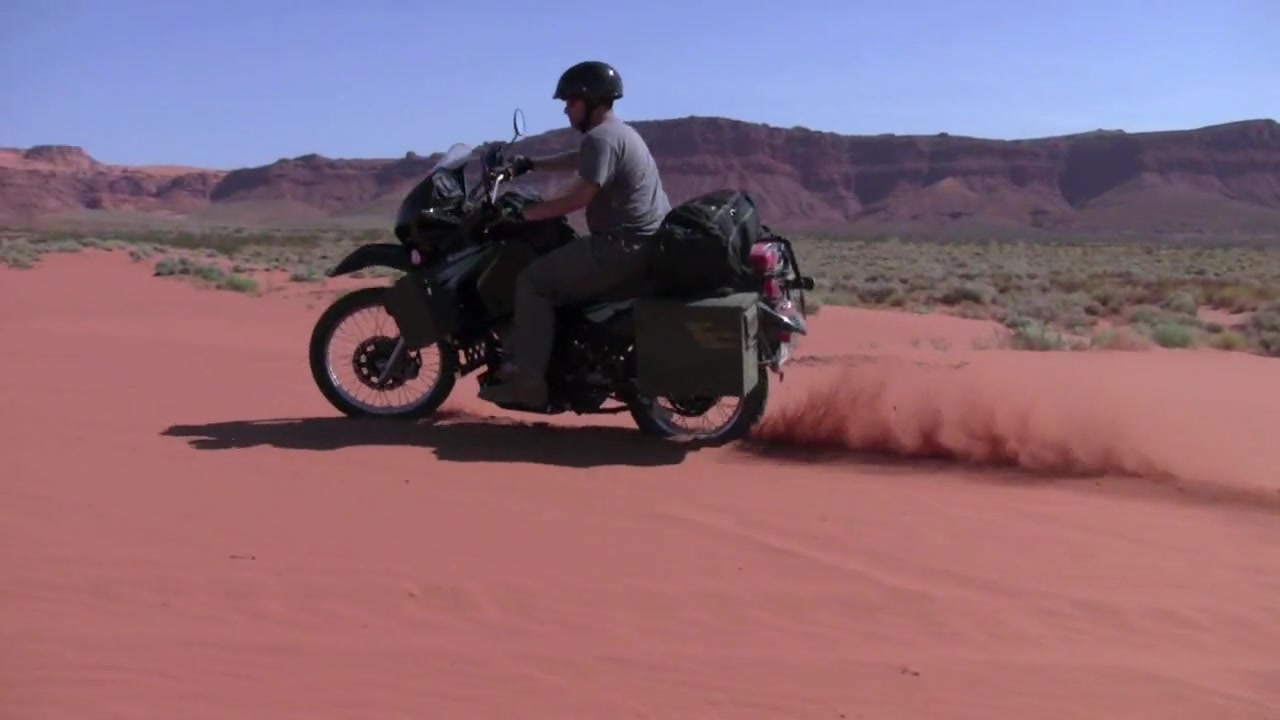motorbike: (308, 108, 812, 453)
